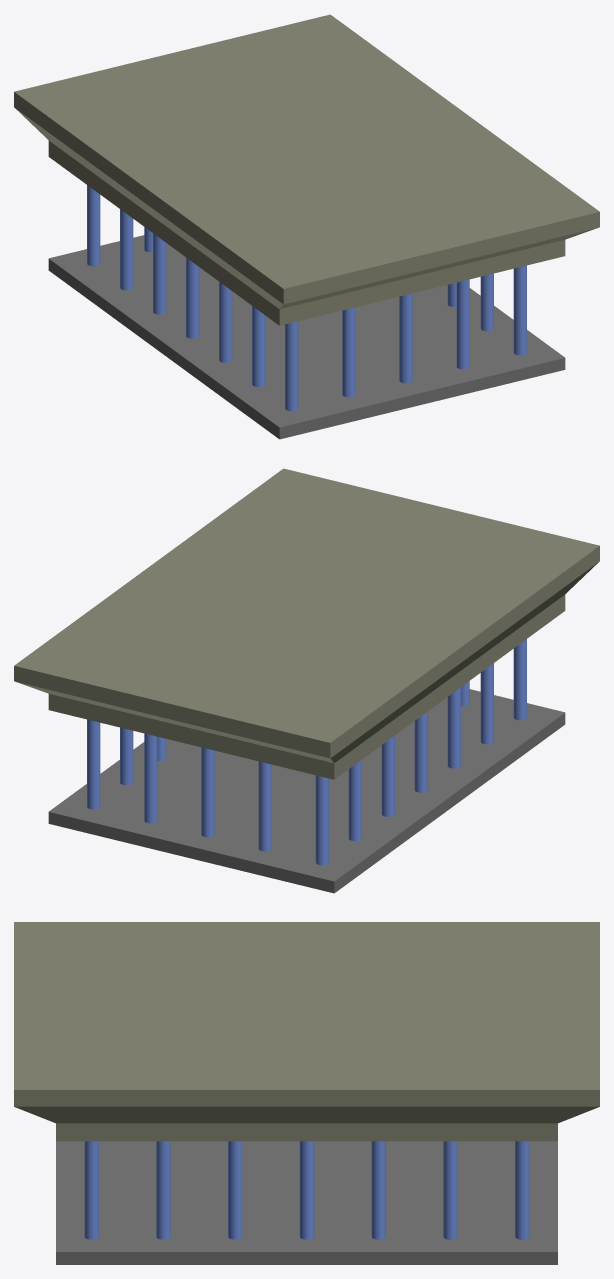
File: map2.glb
The picture shows the model from 3 angles, top to bottom: view 1: azimuth 30°, elevation 25°; view 2: azimuth 150°, elevation 25°; view 3: azimuth 270°, elevation 25°; orthographic projection. The views are drawn at different scales.
Parts seen in each view (by area): view 1: Cube.001, Cube, Cylinder.002, Cylinder.003, Cylinder.004, Cylinder.005, Cylinder.013, Cylinder.006, Cylinder.011, Cylinder.012, Cylinder.007, Cylinder.014 (+2 smaller); view 2: Cube.001, Cube, Cylinder.011, Cylinder.009, Cylinder.010, Cylinder.008, Cylinder.001, Cylinder.006, Cylinder.002, Cylinder.014, Cylinder.007, Cylinder.012 (+2 smaller); view 3: Cube.001, Cube, Cylinder.020, Cylinder.017, Cylinder.018, Cylinder.001, Cylinder.013, Cylinder.016, Cylinder.019.
Part boxes in pixels (x1,y1,x2,y2): Cube.001: (14,14,599,325); Cube: (48,235,565,439); Cylinder.002: (285,321,298,411); Cylinder.003: (342,307,355,397); Cylinder.004: (399,293,412,383); Cylinder.005: (456,279,469,369); Cylinder.013: (513,265,526,355); Cylinder.006: (186,257,199,338); Cylinder.011: (87,185,100,266); Cylinder.012: (120,209,133,290); Cylinder.007: (153,233,166,314); Cylinder.014: (252,306,265,386); Cube.001: (14,468,599,779); Cube: (48,689,565,893); Cylinder.011: (315,775,328,865); Cylinder.009: (201,747,214,837); Cylinder.010: (258,761,271,851); Cylinder.008: (144,733,157,823); Cylinder.001: (87,719,100,809); Cylinder.006: (414,711,427,792); Cylinder.002: (513,639,526,720); Cylinder.014: (480,663,493,744); Cylinder.007: (381,736,394,816); Cylinder.012: (348,760,361,840); Cube.001: (14,922,599,1141); Cube: (56,1141,557,1264); Cylinder.020: (299,1141,314,1239); Cylinder.017: (156,1141,170,1239); Cylinder.018: (443,1141,457,1239); Cylinder.001: (515,1141,529,1239); Cylinder.013: (84,1141,98,1239); Cylinder.016: (228,1141,242,1239); Cylinder.019: (371,1141,385,1239).
Size of what is drawn, in the model's own units: 0.5534 by 0.2814 by 0.8167.
